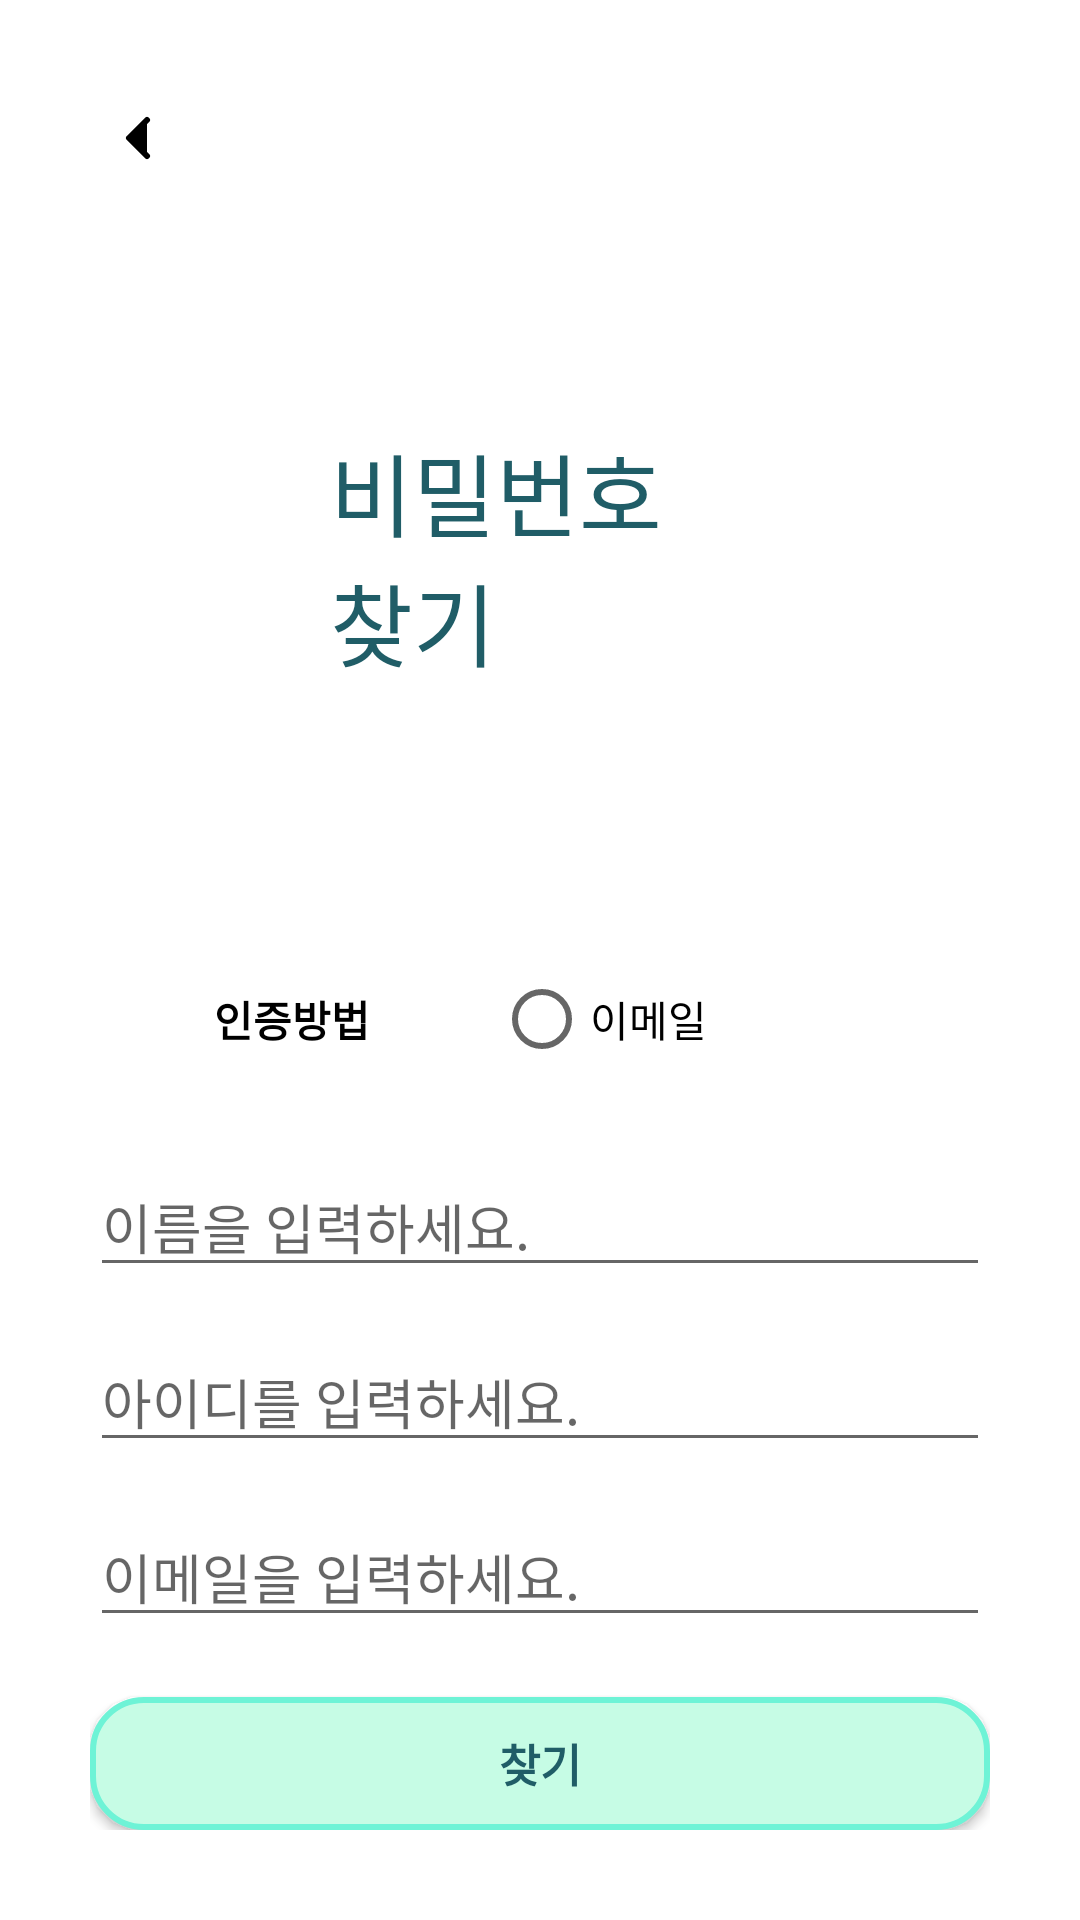

Where icons sit on this 1080px x 1920px app screen, as bbox=(x1, y1, x2, y2):
뒤로가기: bbox=(126, 117, 150, 159)
